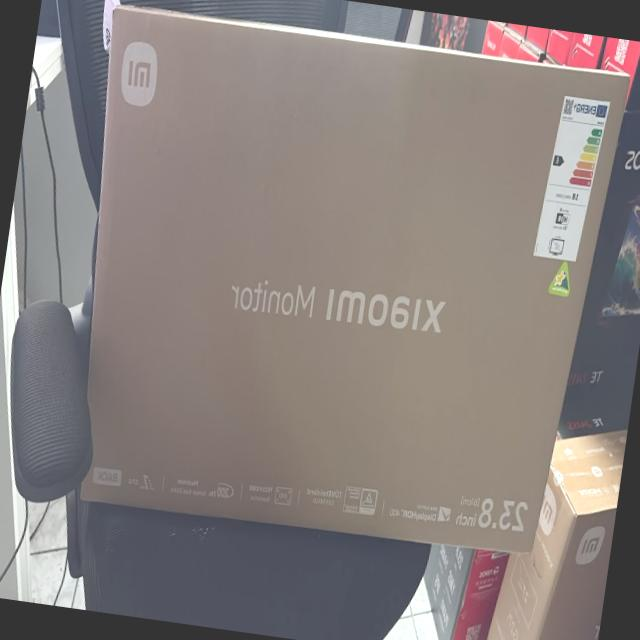caja-monitor: (83, 6, 630, 550)
